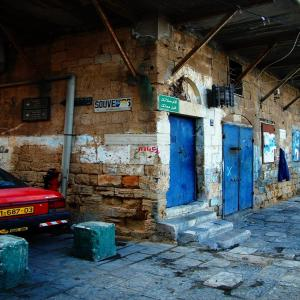Vehicle-registration-plate: (1, 206, 36, 219)
